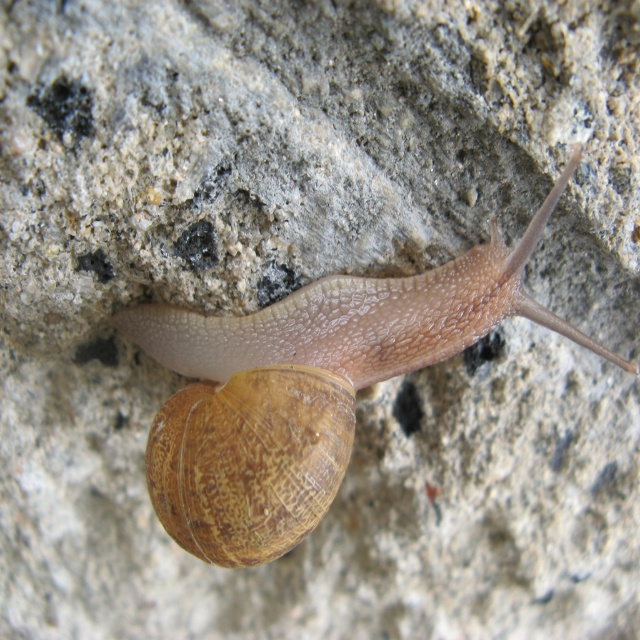Snail: (105, 148, 640, 572)
